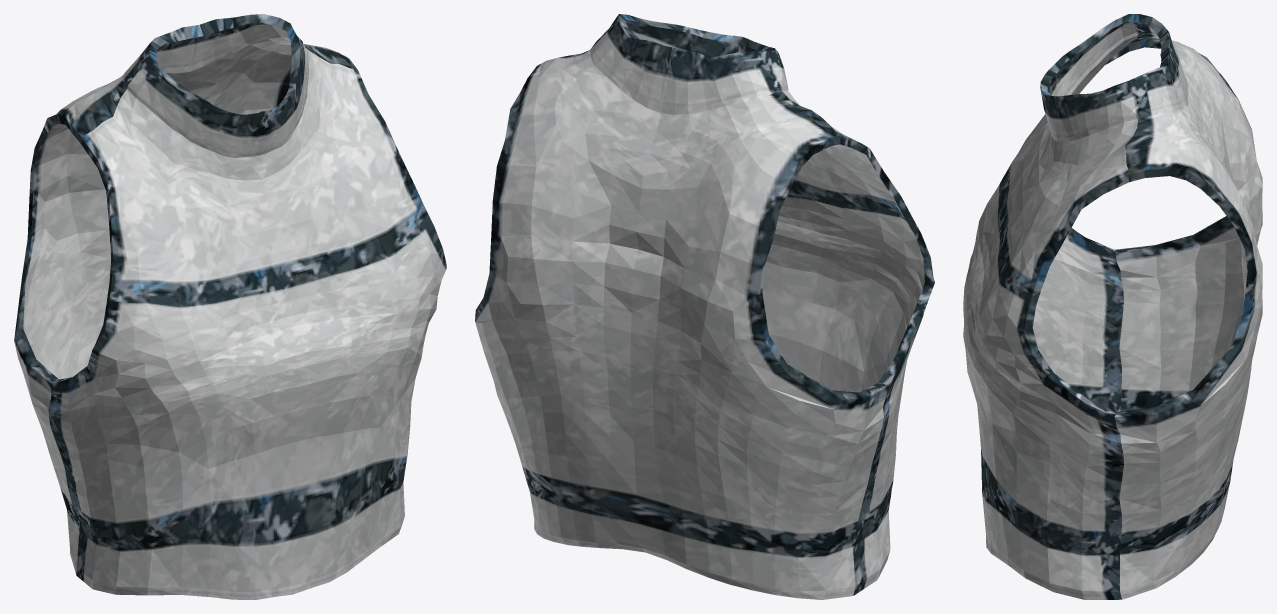
File: mhw_punkduck_high_neck_crop_top.glb
3 views of the same model, side by side, from view 1: azimuth 30°, elevation 25°; view 2: azimuth 150°, elevation 25°; view 3: azimuth 270°, elevation 25° (orthographic). The views are drawn at different scales.
Parts seen in each view (by area): view 1: mhw_punkduck_high_neck_crop_top; view 2: mhw_punkduck_high_neck_crop_top; view 3: mhw_punkduck_high_neck_crop_top.
Part boxes in pixels (x1,y1,x2,y2): mhw_punkduck_high_neck_crop_top: (14, 14, 446, 599); mhw_punkduck_high_neck_crop_top: (475, 14, 934, 599); mhw_punkduck_high_neck_crop_top: (963, 14, 1262, 599).
Size of the model in its own units: 0.351 by 0.4758 by 0.2631.
Materials: 1 (1 with a texture image).
